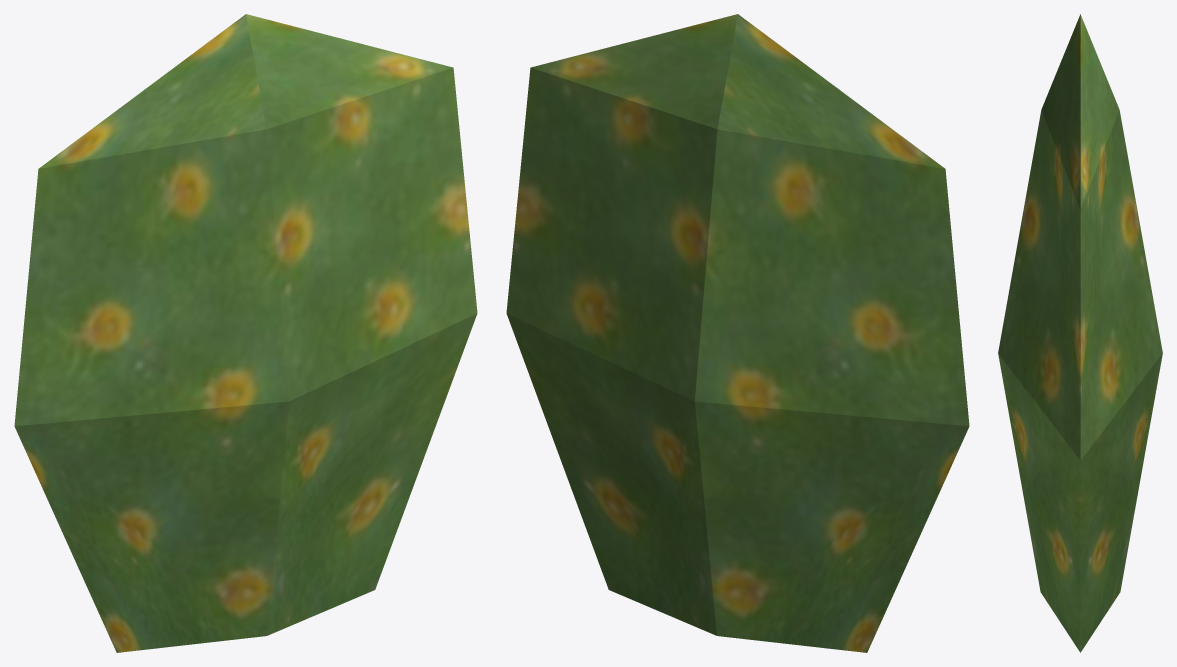
Rendered from plant_cactus.fbx.
3 renders of one model, left to right at view 1: azimuth 30°, elevation 25°; view 2: azimuth 150°, elevation 25°; view 3: azimuth 270°, elevation 25°, orthographic. The views are drawn at different scales.
Parts seen in each view (by area): view 1: plant_cactus; view 2: plant_cactus; view 3: plant_cactus.
Boxes of the visible parts, <box> form: plant_cactus: <box>14,14,477,652</box>; plant_cactus: <box>506,14,969,652</box>; plant_cactus: <box>998,14,1162,652</box>.
Bounding box in the file's own units: 1.17 × 1.47 × 0.3788.
